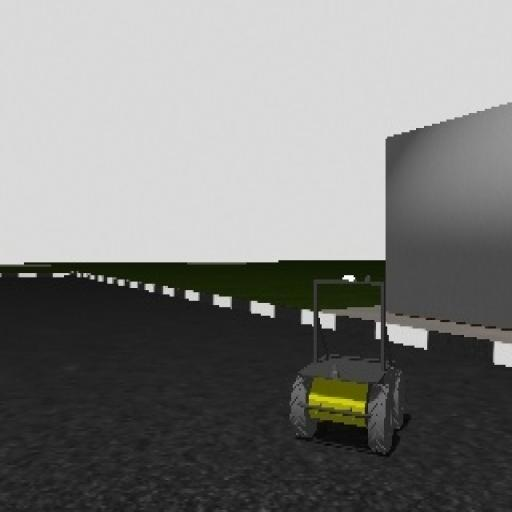huskya200: (280, 265, 418, 471)
